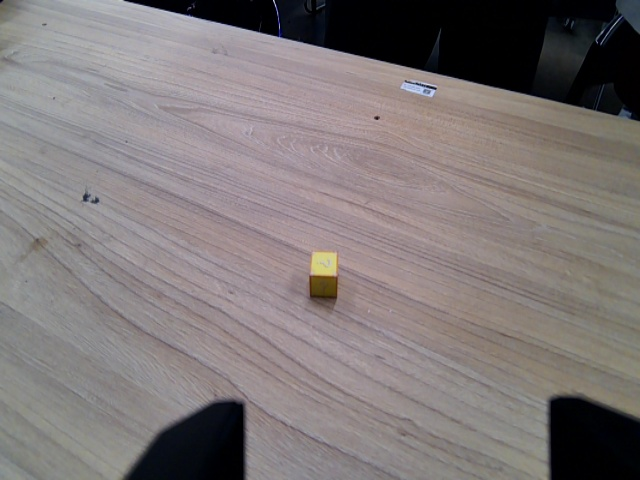lucky: (305, 249, 342, 301)
